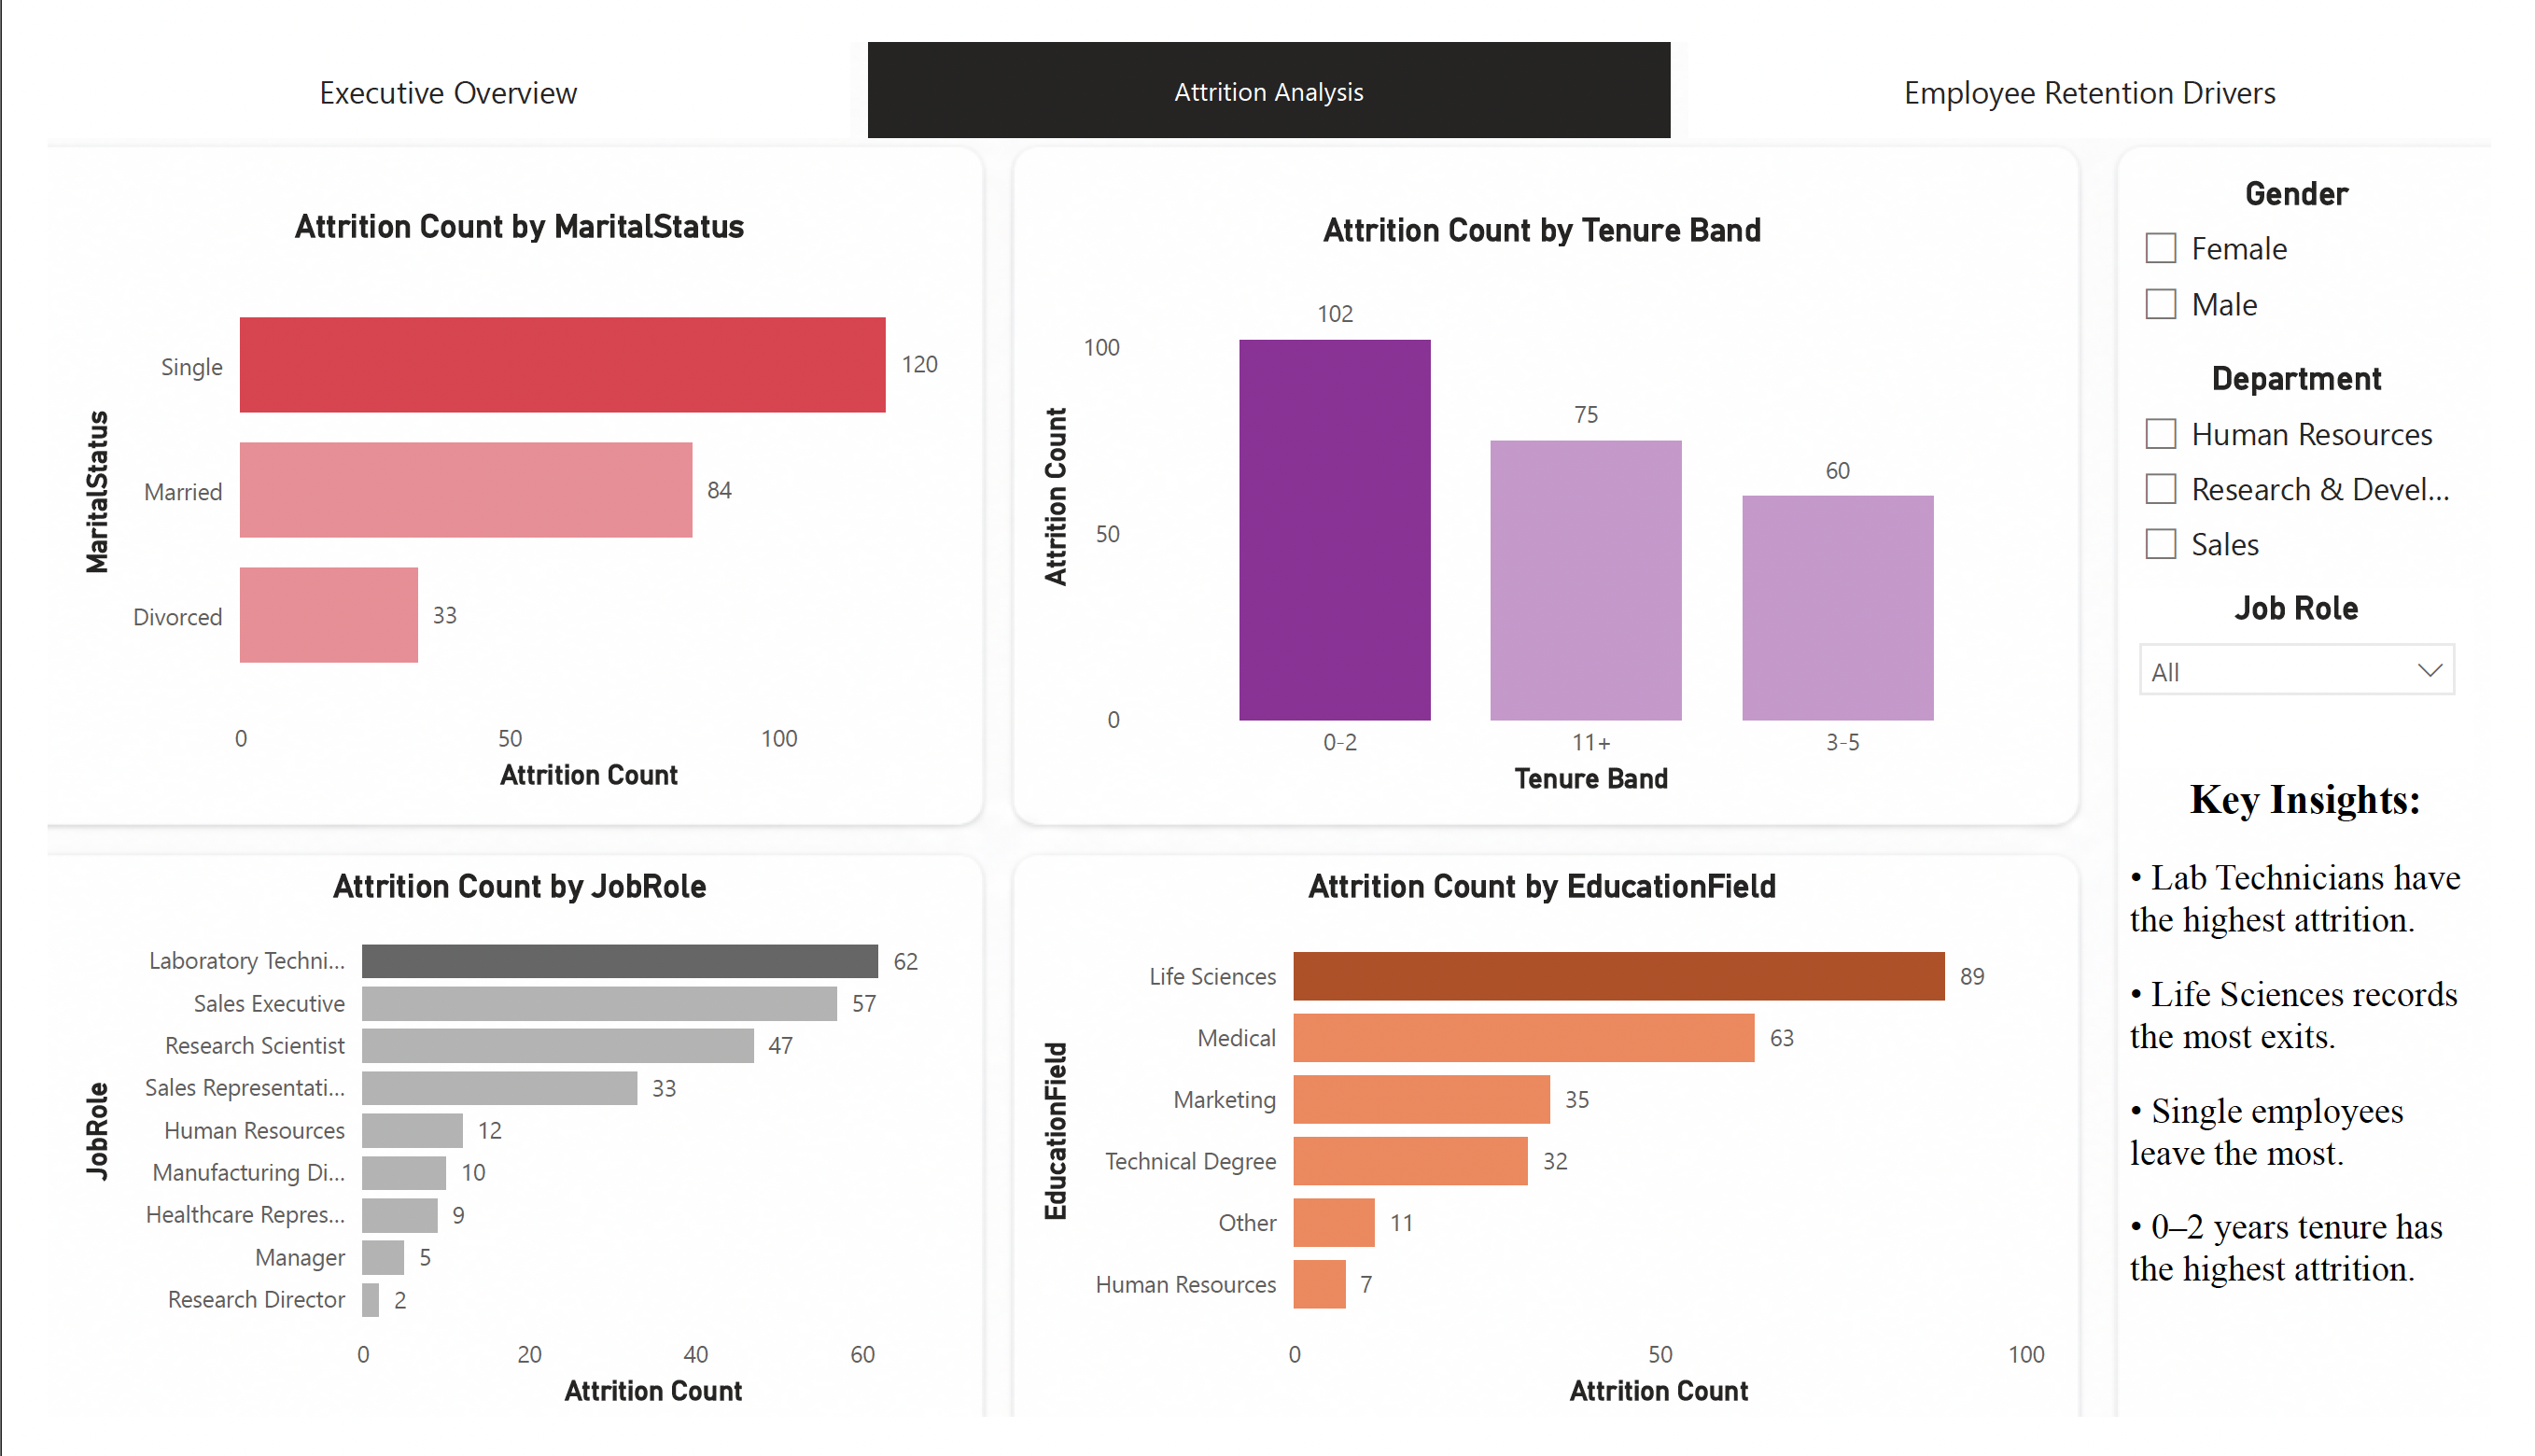

Layout of this report page (visuals, bound fields, positions):
{"tool":"powerbi","page":{"name":"Attrition Analysis","canvas":[1280,720],"ordinal":1},"visuals":[{"type":"clusteredBarChart","fields":{"Category":["WA_Fn-UseC_-HR-Employee-Attrition.JobRole"],"Y":["WA_Fn-UseC_-HR-Employee-Attrition.Attrition Count"]},"box":[13.2,432.3,468.3,288.2],"z":0},{"type":"clusteredBarChart","fields":{"Category":["WA_Fn-UseC_-HR-Employee-Attrition.MaritalStatus"],"Y":["WA_Fn-UseC_-HR-Employee-Attrition.Attrition Count"]},"box":[13.2,86.5,468.3,311],"z":1000},{"type":"clusteredBarChart","fields":{"Category":["WA_Fn-UseC_-HR-Employee-Attrition.EducationField"],"Y":["WA_Fn-UseC_-HR-Employee-Attrition.Attrition Count"]},"box":[515.1,432.3,535.5,288.2],"z":2000},{"type":"clusteredColumnChart","fields":{"Category":["WA_Fn-UseC_-HR-Employee-Attrition.Tenure Sort"],"Y":["WA_Fn-UseC_-HR-Employee-Attrition.Attrition Count"]},"box":[515.1,87.7,535.5,311],"z":3000},{"type":"slicer","title":"Gender","fields":{"Values":["WA_Fn-UseC_-HR-Employee-Attrition.Gender"]},"box":[1086.2,68.8,185,97.5],"z":4000},{"type":"slicer","title":"Department","fields":{"Values":["WA_Fn-UseC_-HR-Employee-Attrition.Department"]},"box":[1086.2,166.2,185,120],"z":5000},{"type":"slicer","title":"Job Role","fields":{"Values":["WA_Fn-UseC_-HR-Employee-Attrition.JobRole"]},"box":[1086.2,286.2,185,93.8],"z":6000},{"type":"textbox","box":[1086.2,380,193.8,281.2],"z":7000},{"type":"pageNavigator","box":[0,0,1280,50],"z":8000}]}

Visuals, with their boxes in screenshot pixels (x1, y1, x2, y2), scaled from the page's 1280x720 canvas onto the 2535x1456 screenshot:
clusteredBarChart - WA_Fn-UseC_-HR-Employee-Attrition.JobRole x WA_Fn-UseC_-HR-Employee-Attrition.Attrition Count: detection(26, 875, 954, 1455)
clusteredBarChart - WA_Fn-UseC_-HR-Employee-Attrition.MaritalStatus x WA_Fn-UseC_-HR-Employee-Attrition.Attrition Count: detection(26, 175, 954, 804)
clusteredBarChart - WA_Fn-UseC_-HR-Employee-Attrition.EducationField x WA_Fn-UseC_-HR-Employee-Attrition.Attrition Count: detection(1020, 875, 2080, 1455)
clusteredColumnChart - WA_Fn-UseC_-HR-Employee-Attrition.Tenure Sort x WA_Fn-UseC_-HR-Employee-Attrition.Attrition Count: detection(1020, 177, 2080, 806)
"Gender" slicer: detection(2151, 139, 2517, 336)
"Department" slicer: detection(2151, 336, 2517, 579)
"Job Role" slicer: detection(2151, 579, 2517, 768)
textbox: detection(2151, 768, 2534, 1337)
pageNavigator: detection(0, 0, 2534, 101)
